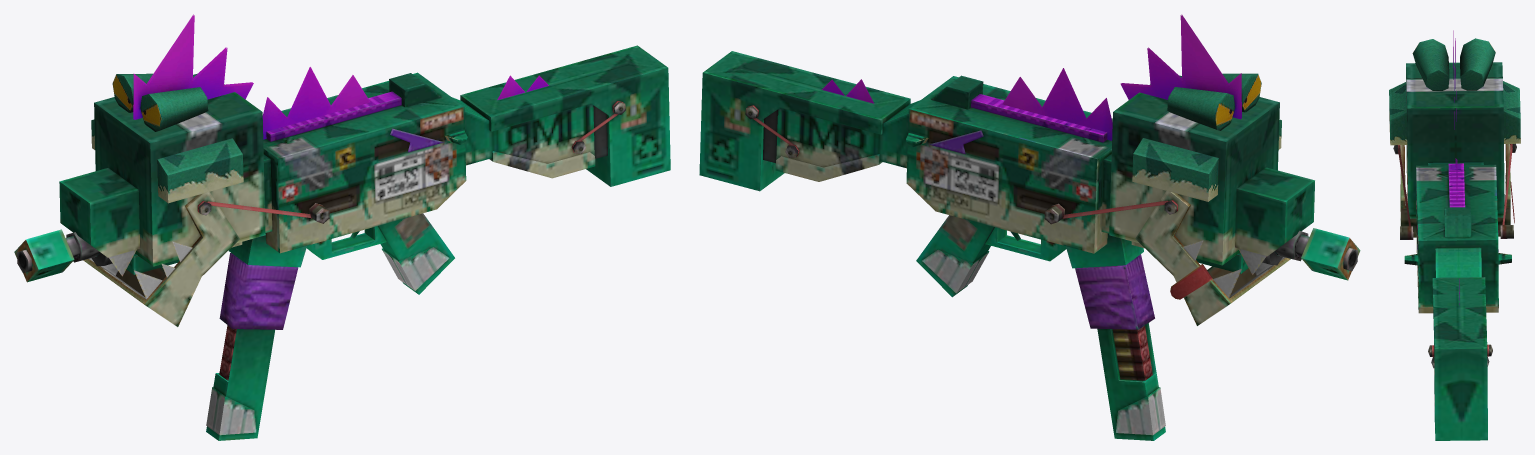
File: ump_free_fire.glb
The picture shows the model from 3 angles, left to right: view 1: azimuth 30°, elevation 25°; view 2: azimuth 150°, elevation 25°; view 3: azimuth 270°, elevation 25°; orthographic projection. The views are drawn at different scales.
Visible parts, largest first — view 1: Object_2, Object_3; view 2: Object_2, Object_3; view 3: Object_2, Object_3.
Boxes of the visible parts, x1,y1,x2,y2 form: Object_2: [14, 45, 670, 440]; Object_3: [89, 14, 548, 299]; Object_2: [699, 51, 1360, 440]; Object_3: [822, 14, 1285, 299]; Object_2: [1393, 62, 1516, 440]; Object_3: [1389, 30, 1520, 304].
Size of the model in its own units: 8.94 by 5.83 by 1.83.
Materials: 2 (2 with a texture image).
